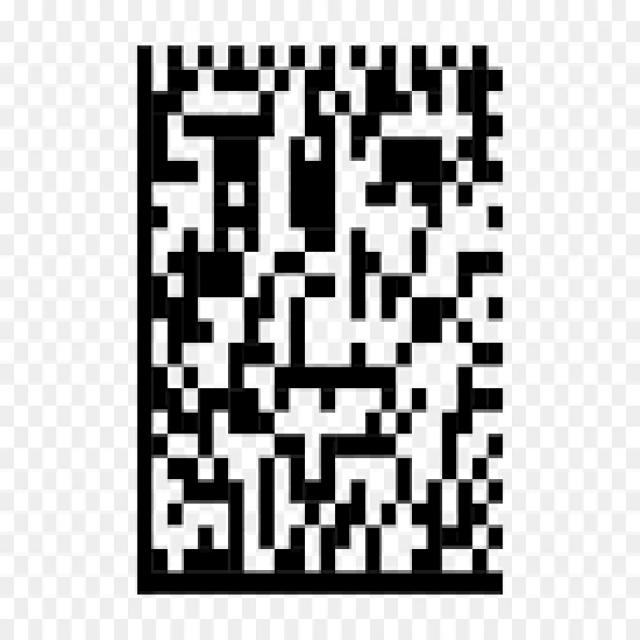datamatrix: (128, 21, 519, 612)
